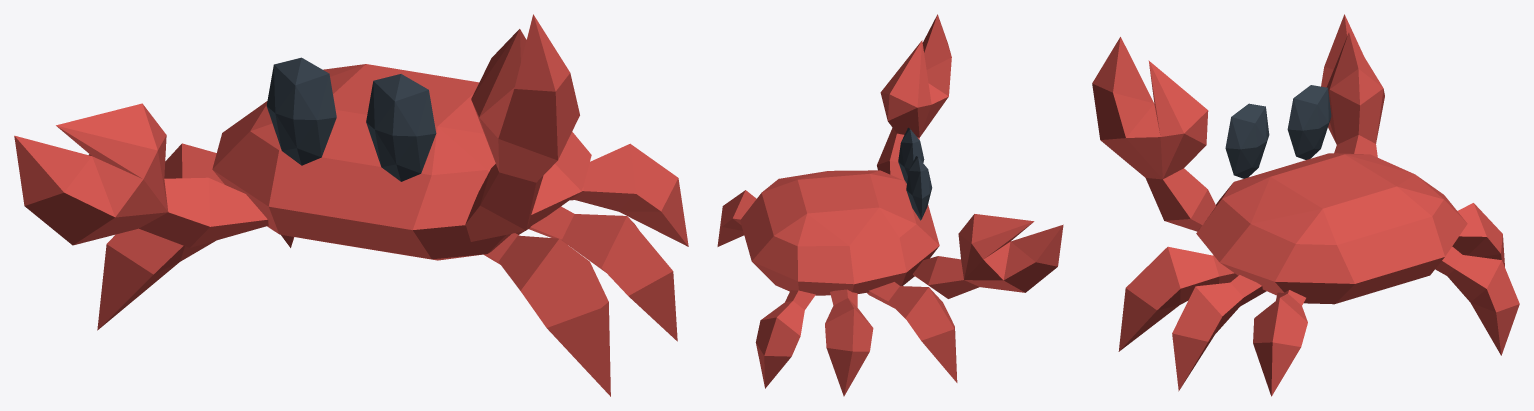
File: crab.fbx
3 renders of one model, left to right at view 1: azimuth 30°, elevation 25°; view 2: azimuth 150°, elevation 25°; view 3: azimuth 270°, elevation 25°, orthographic. The views are drawn at different scales.
Visible parts, largest first — view 1: crab; view 2: crab; view 3: crab.
Part boxes in pixels (x1,y1,x2,y2): crab: (14, 14, 688, 396); crab: (717, 14, 1063, 396); crab: (1092, 14, 1519, 396).
Size of the model in its own units: 115 by 76.41 by 94.88.
Materials: 1 (1 with a texture image).
